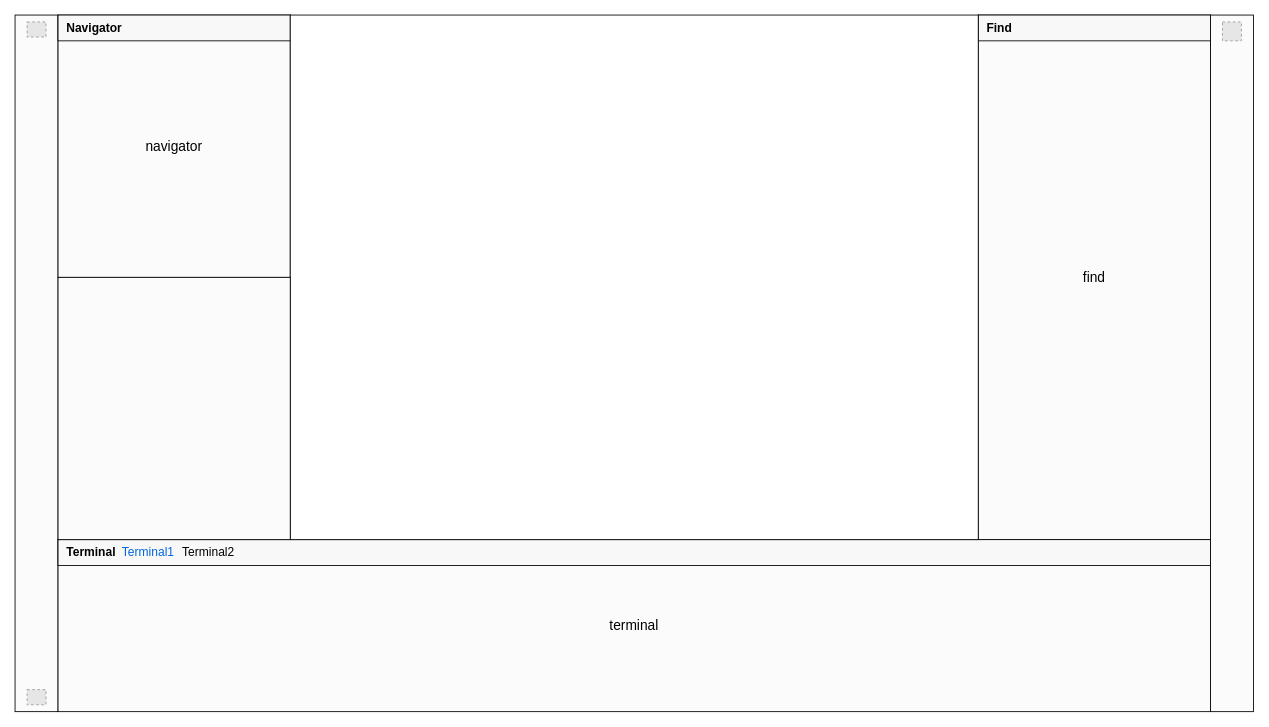
Image size: 1269x727. Some labels were removed from this diagram. Grey dashed boxes stand in for pictures. The centre of each missing label's shape, as x and y in pixels:
MAIN_AREA: the point at 633,277
navigator-details: the point at 173,408
